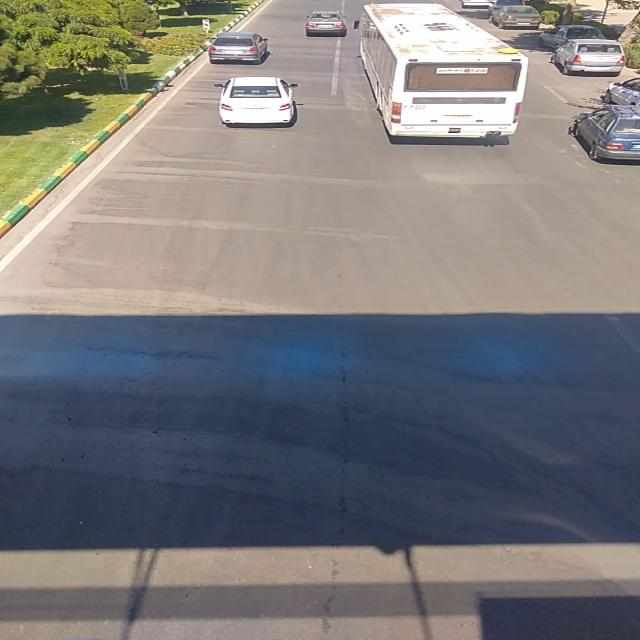bus: (354, 3, 528, 145)
car: (209, 77, 301, 129), (579, 102, 638, 162), (548, 40, 623, 74), (206, 32, 272, 64), (486, 6, 544, 30), (304, 9, 350, 37)
